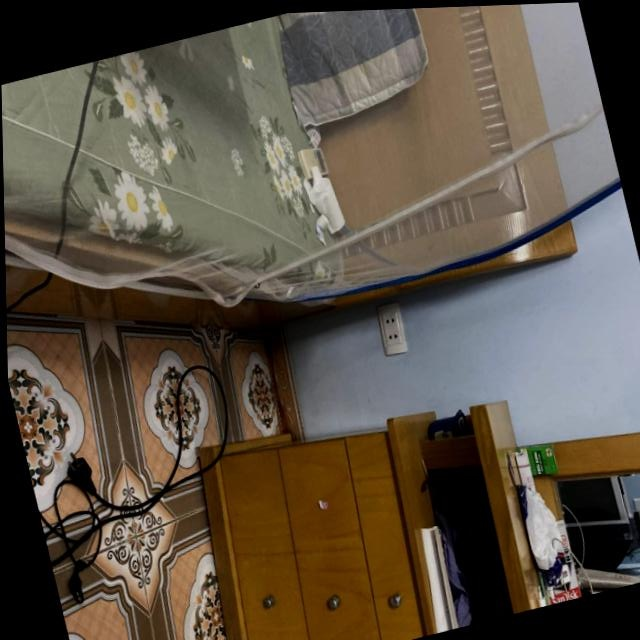outlet: (375, 300, 411, 358)
